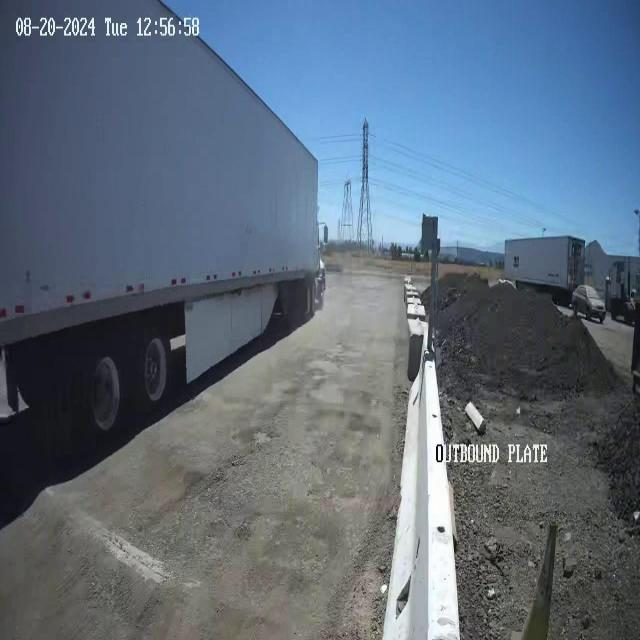TRUCK_CONTAINER: (1, 0, 326, 442)
